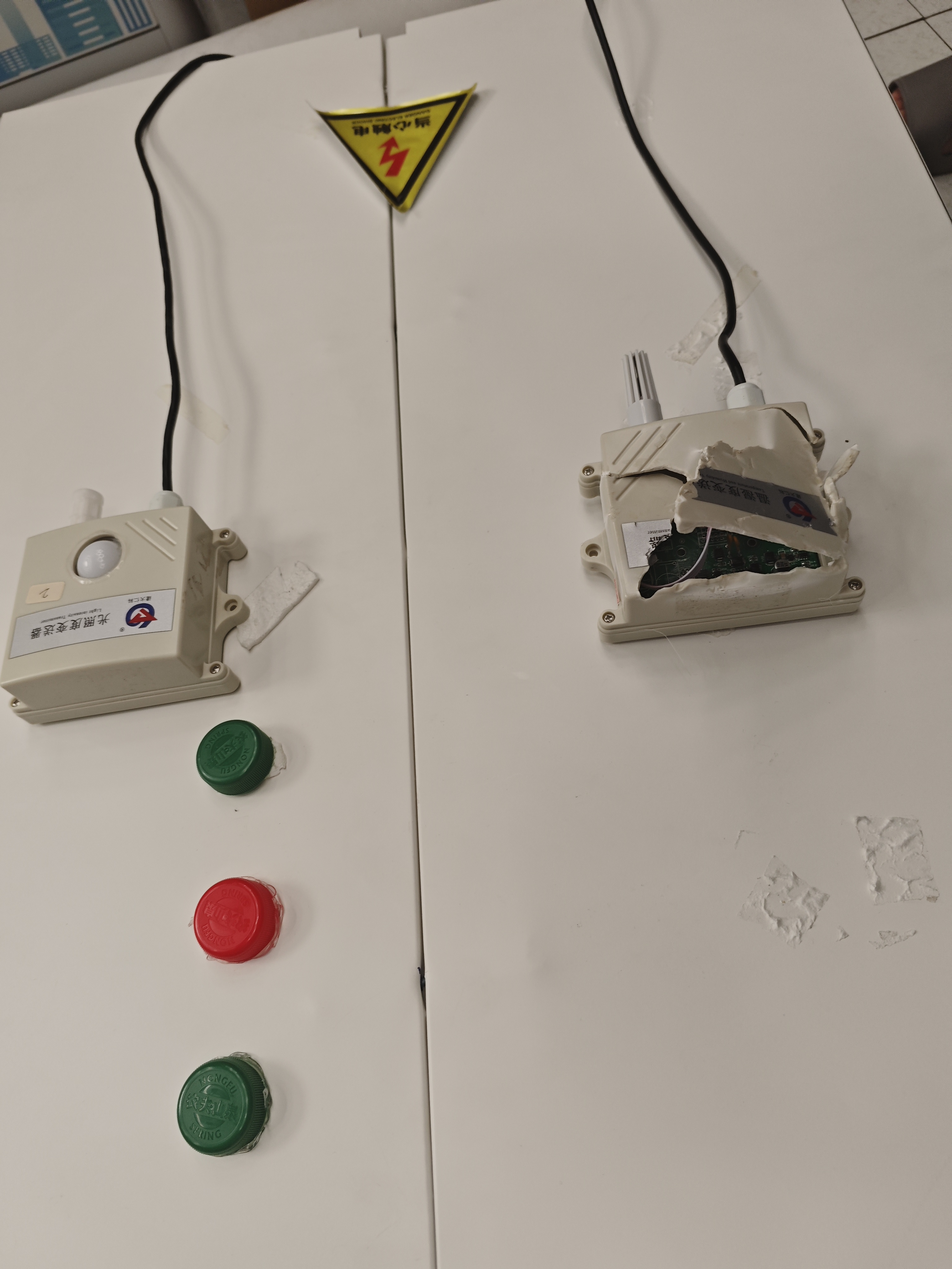red_warning: (157, 855, 292, 979)
sensor_damage: (569, 302, 923, 688)
